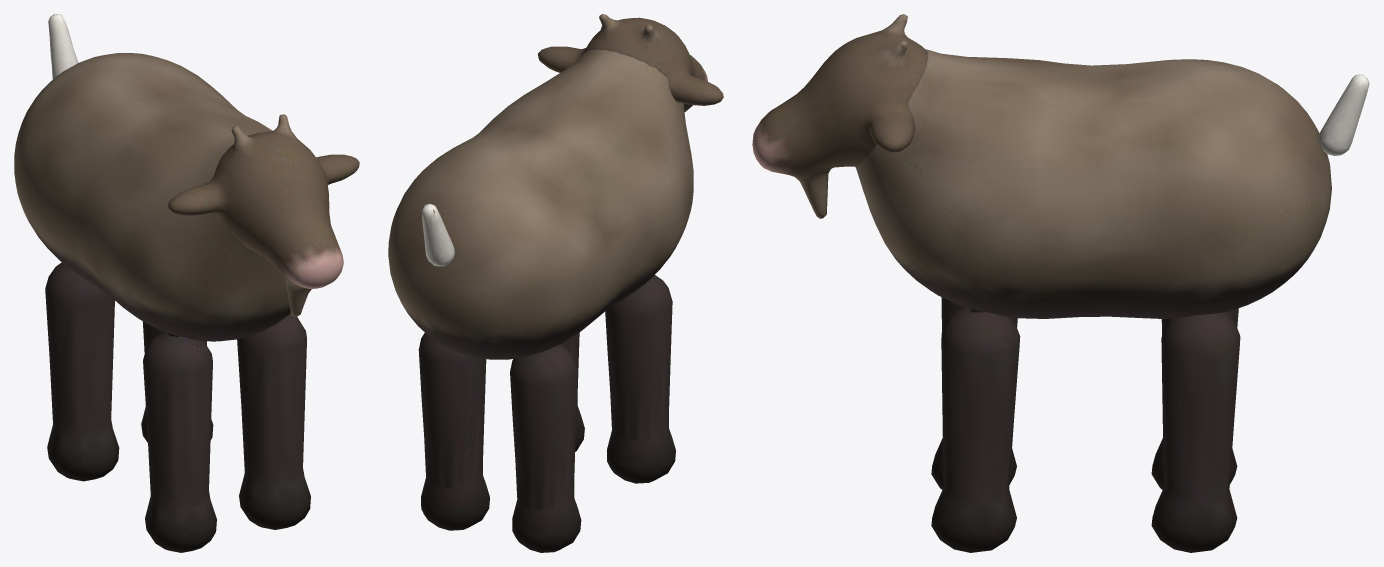
Rendered from animal_pygmy_goat.glb.
3 views of the same model, side by side, from view 1: azimuth 30°, elevation 25°; view 2: azimuth 150°, elevation 25°; view 3: azimuth 270°, elevation 25° (orthographic). The views are drawn at different scales.
Visible parts, largest first — view 1: animal_pygmy_goat, head, leg0, leg1, leg2, tail, leg3; view 2: animal_pygmy_goat, leg2, leg0, leg3, head, tail, leg1; view 3: animal_pygmy_goat, head, leg1, leg3, tail, leg0, leg2.
Part boxes in pixels (bbox=[...]): animal_pygmy_goat: bbox=[14, 53, 311, 341]; head: bbox=[168, 114, 359, 316]; leg0: bbox=[143, 331, 216, 552]; leg1: bbox=[237, 313, 310, 529]; leg2: bbox=[45, 262, 119, 481]; tail: bbox=[48, 14, 78, 79]; leg3: bbox=[141, 321, 213, 442]; animal_pygmy_goat: bbox=[388, 49, 693, 359]; leg2: bbox=[510, 344, 581, 552]; leg0: bbox=[605, 275, 675, 483]; leg3: bbox=[418, 333, 489, 530]; head: bbox=[538, 14, 723, 111]; tail: bbox=[421, 203, 454, 266]; leg1: bbox=[561, 332, 584, 451]; animal_pygmy_goat: bbox=[855, 49, 1331, 318]; head: bbox=[752, 14, 927, 218]; leg1: bbox=[931, 307, 1020, 552]; leg3: bbox=[1151, 312, 1240, 552]; tail: bbox=[1319, 74, 1369, 155]; leg0: bbox=[931, 297, 1017, 489]; leg2: bbox=[1151, 308, 1238, 489].
Bounding box in the file's own units: 0.2149 × 0.4471 × 0.5044.
Materials: 1 (1 with a texture image).
